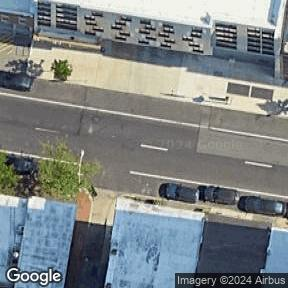vegetation: (35, 138, 102, 203), (0, 153, 18, 196), (50, 58, 73, 81)
